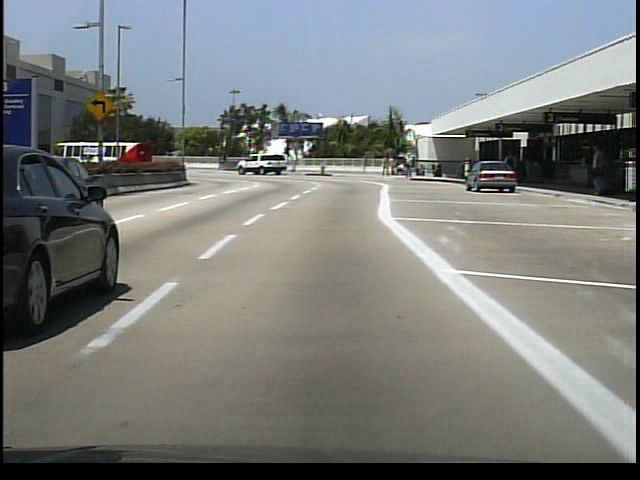person: (587, 142, 609, 200), (502, 147, 519, 185), (462, 152, 479, 185), (405, 150, 416, 181), (382, 152, 391, 177), (389, 154, 396, 177)
